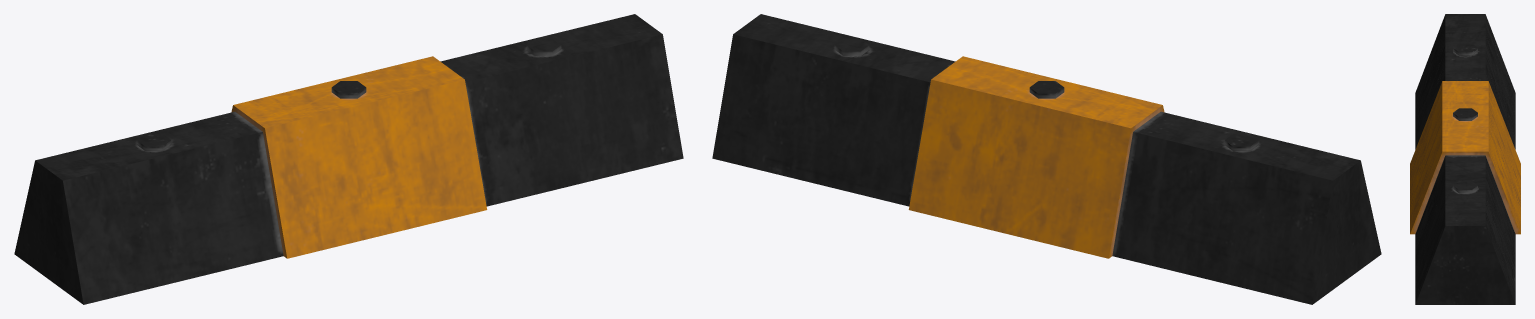
Rendered from RoadBarrier01.FBX.
3 renders of one model, left to right at view 1: azimuth 30°, elevation 25°; view 2: azimuth 150°, elevation 25°; view 3: azimuth 270°, elevation 25°, orthographic. The views are drawn at different scales.
Parts seen in each view (by area): view 1: RoadBarrier01; view 2: RoadBarrier01; view 3: RoadBarrier01.
Boxes of the visible parts, x1,y1,x2,y2 form: RoadBarrier01: (14,14,683,304); RoadBarrier01: (712,14,1381,304); RoadBarrier01: (1410,14,1520,304).
Bounding box in the file's own units: 39.37 × 7.46 × 8.7.
